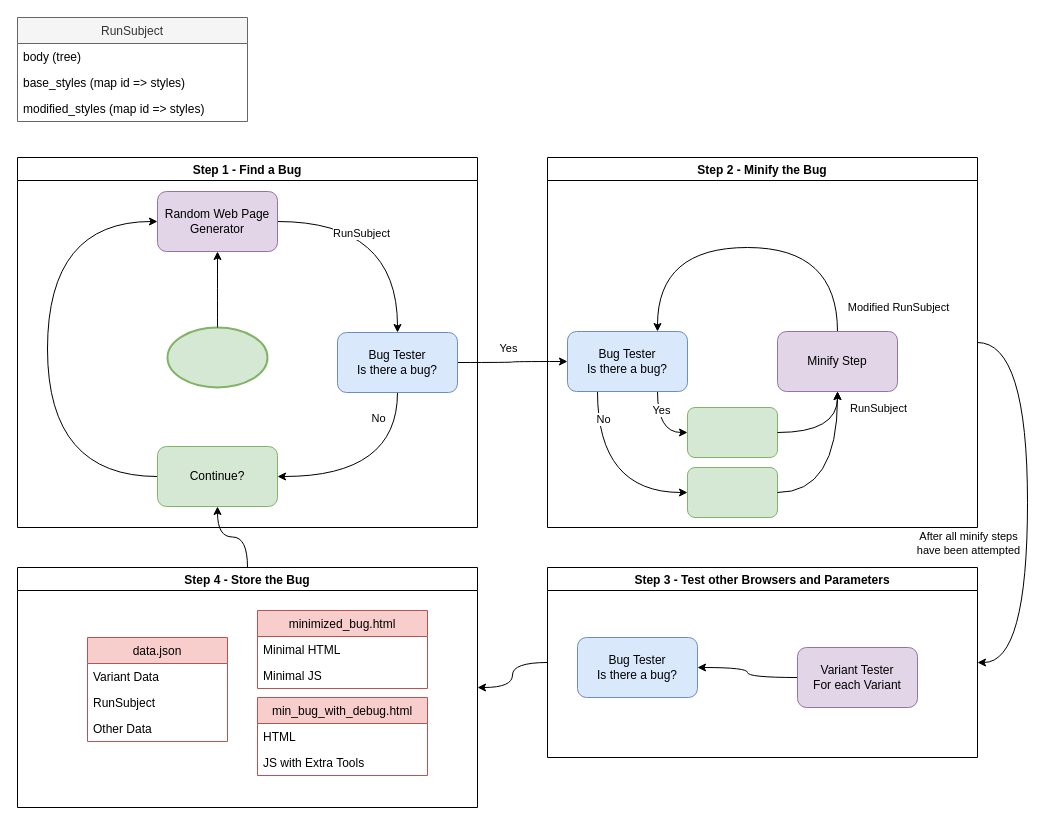
Image size: 1045x825. Some labels were removed from this diagram. The centre of each missing label's shape, as x and y in pixels:
Keep Modified RunSubject: the point at 732,432
Revert to Original RunSubject: the point at 732,492
Start: the point at 217,357
